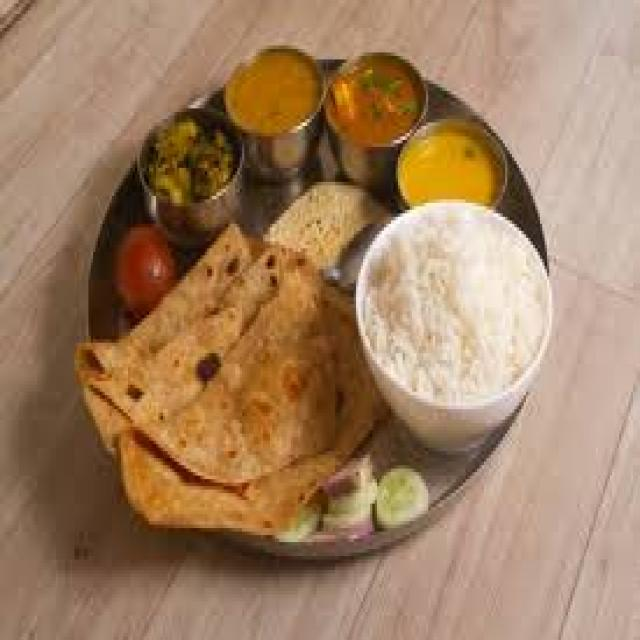ROTI: (118, 266, 373, 535), (85, 239, 297, 451), (75, 220, 256, 387)
